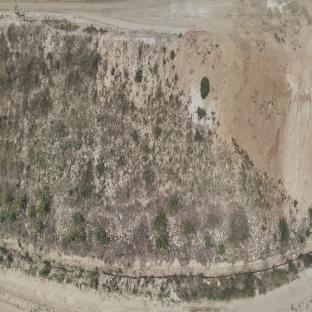toe_drain: (102, 240, 312, 280)
